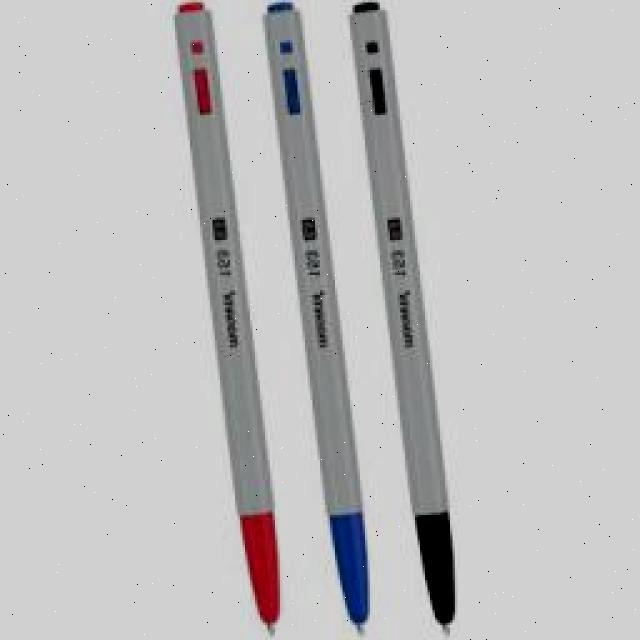pen: (339, 0, 452, 635)
